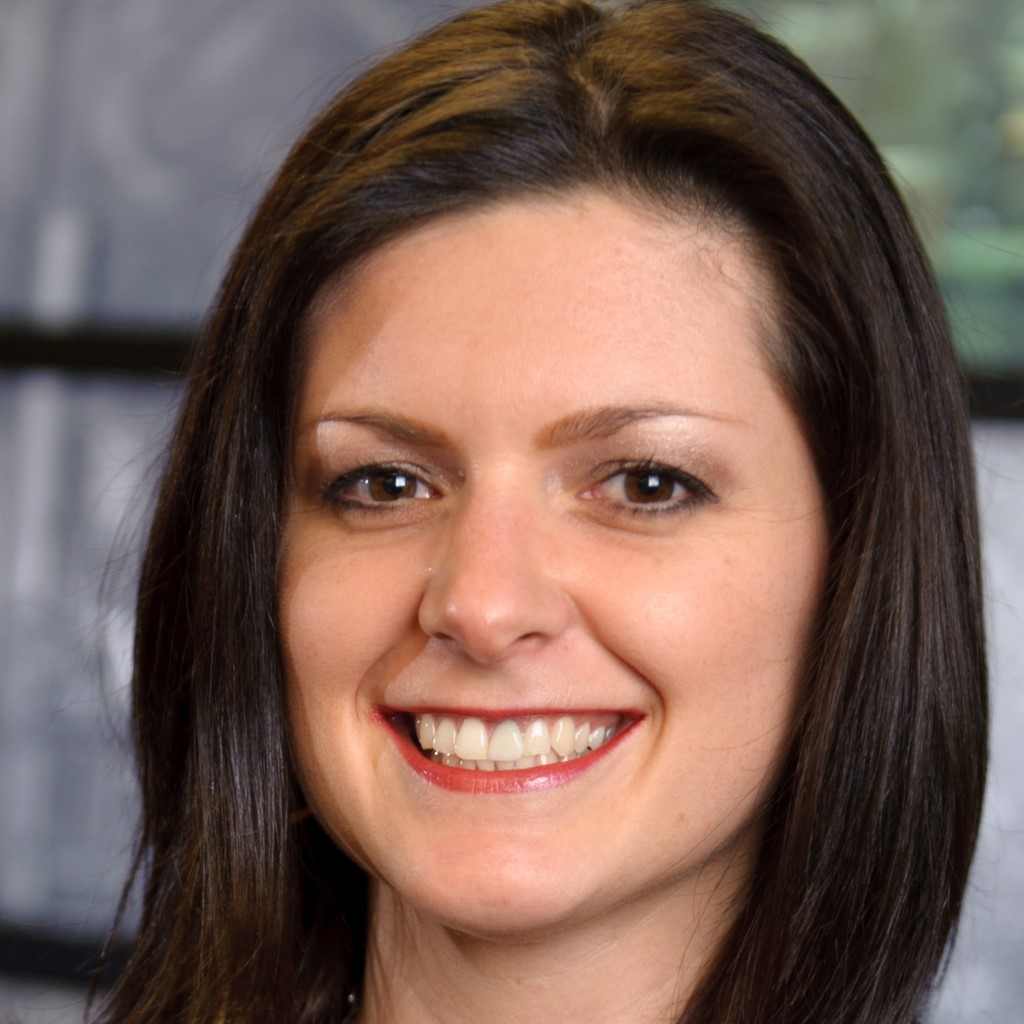sin_mascara: (273, 199, 839, 899)
